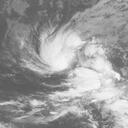cyclone: (33, 22, 81, 74)
